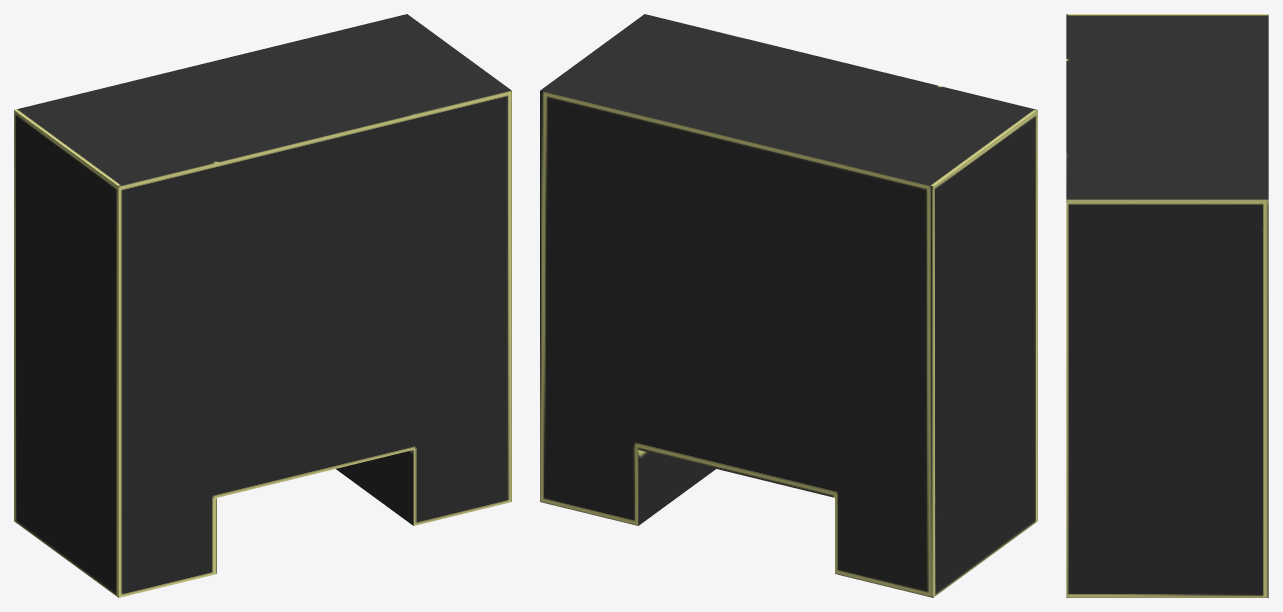
Rendered from ObstacleHighShort.fbx.
The picture shows the model from 3 angles, left to right: view 1: azimuth 30°, elevation 25°; view 2: azimuth 150°, elevation 25°; view 3: azimuth 270°, elevation 25°; orthographic projection. The views are drawn at different scales.
Visible parts, largest first — view 1: ObstacleHigh_Short; view 2: ObstacleHigh_Short; view 3: ObstacleHigh_Short.
Part boxes in pixels (x1,y1,x2,y2): ObstacleHigh_Short: (14, 14, 511, 597); ObstacleHigh_Short: (540, 14, 1037, 597); ObstacleHigh_Short: (1066, 14, 1268, 597).
Size of the model in its own units: 50 by 50 by 23.05.
